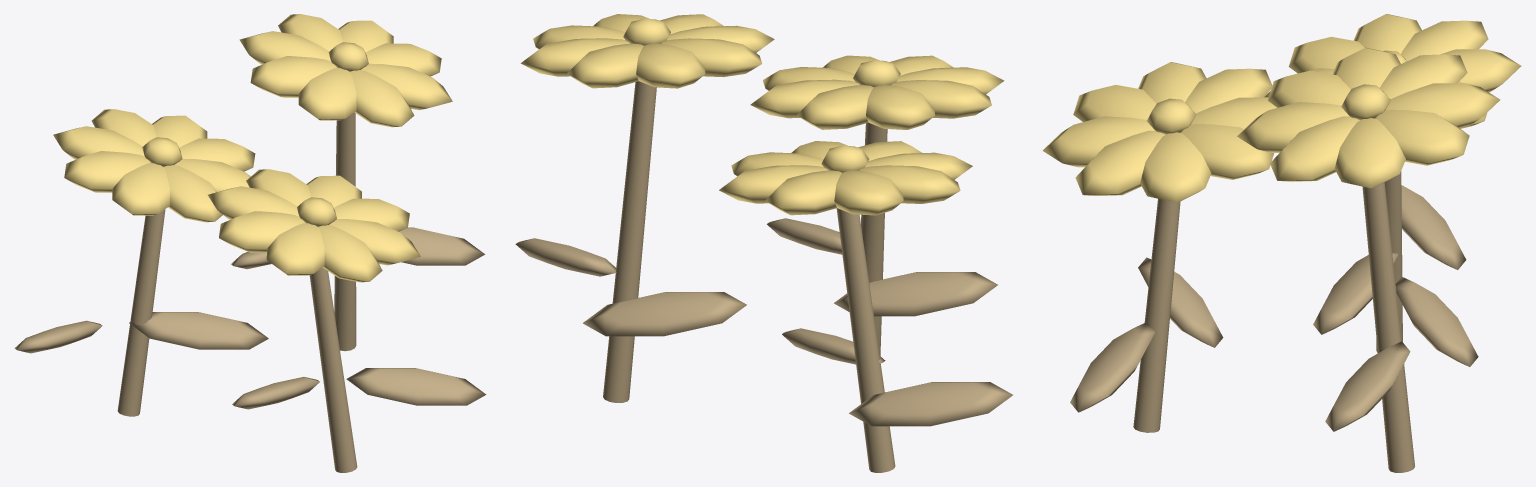
File: flower_1_autumn.glb
3 renders of one model, left to right at view 1: azimuth 30°, elevation 25°; view 2: azimuth 150°, elevation 25°; view 3: azimuth 270°, elevation 25°, orthographic. The views are drawn at different scales.
Bounding box in the file's own units: 0.5021 × 0.3601 × 0.3944.
